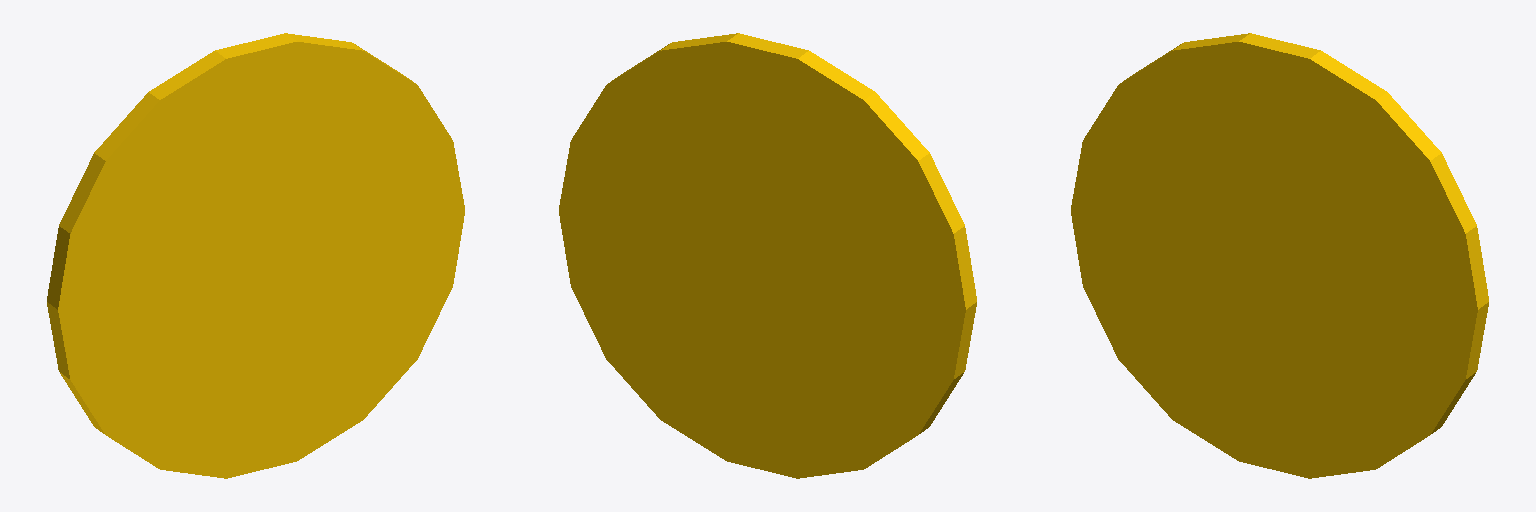
The picture shows the model from 3 angles: view 1: azimuth 30°, elevation 25°; view 2: azimuth 150°, elevation 25°; view 3: azimuth 330°, elevation 25°; orthographic projection.
Visible parts, largest first — view 1: Cylinder001; view 2: Cylinder001; view 3: Cylinder001.
Part boxes in pixels (x1,y1,x2,y2): Cylinder001: (47, 33, 464, 478); Cylinder001: (559, 33, 976, 478); Cylinder001: (1071, 33, 1488, 478).
Bounding box in the file's own units: 5.17 × 5.1 × 0.2528.
Materials: 1 (1 with a texture image).